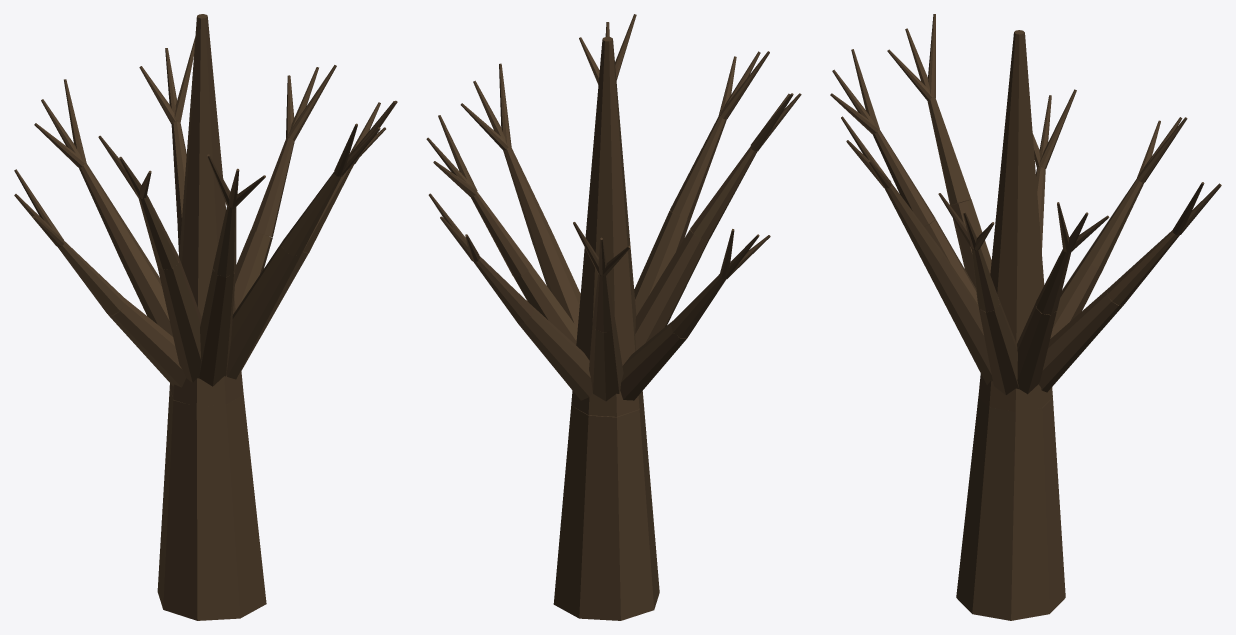
Rendered from oak_mature_winter_2.glb.
The picture shows the model from 3 angles, left to right: view 1: azimuth 30°, elevation 25°; view 2: azimuth 150°, elevation 25°; view 3: azimuth 270°, elevation 25°; orthographic projection. The views are drawn at different scales.
Visible parts, largest first — view 1: oak_mature_winter_2; view 2: oak_mature_winter_2; view 3: oak_mature_winter_2.
Part boxes in pixels (x1,y1,x2,y2): oak_mature_winter_2: (14,14,397,620); oak_mature_winter_2: (426,14,801,620); oak_mature_winter_2: (830,14,1221,620).
Size of the model in its own units: 9.97 by 16.32 by 10.28.
